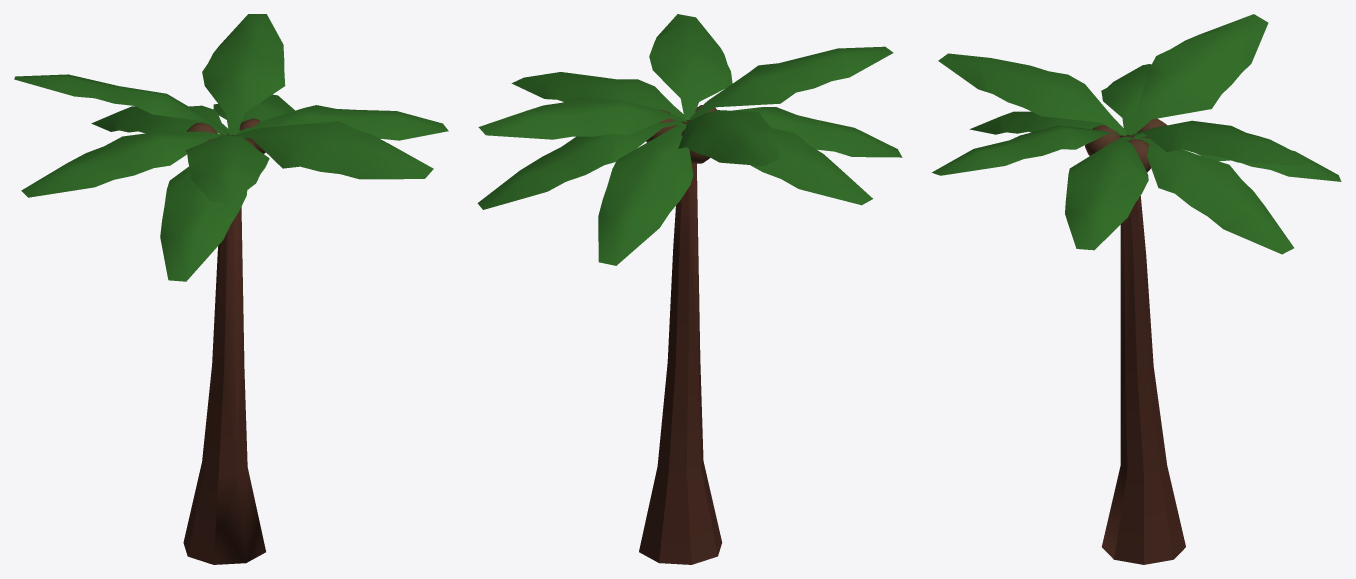
The model's file is SM_palmtree_04_LOD1.fbx.
3 renders of one model, left to right at view 1: azimuth 30°, elevation 25°; view 2: azimuth 150°, elevation 25°; view 3: azimuth 270°, elevation 25°, orthographic. The views are drawn at different scales.
Visible parts, largest first — view 1: Palm_tree_01; view 2: Palm_tree_01; view 3: Palm_tree_01.
Boxes of the visible parts, x1,y1,x2,y2 form: Palm_tree_01: (14, 14, 448, 564); Palm_tree_01: (477, 14, 902, 564); Palm_tree_01: (932, 14, 1341, 564).
Size of the model in its own units: 519 by 600 by 483.
